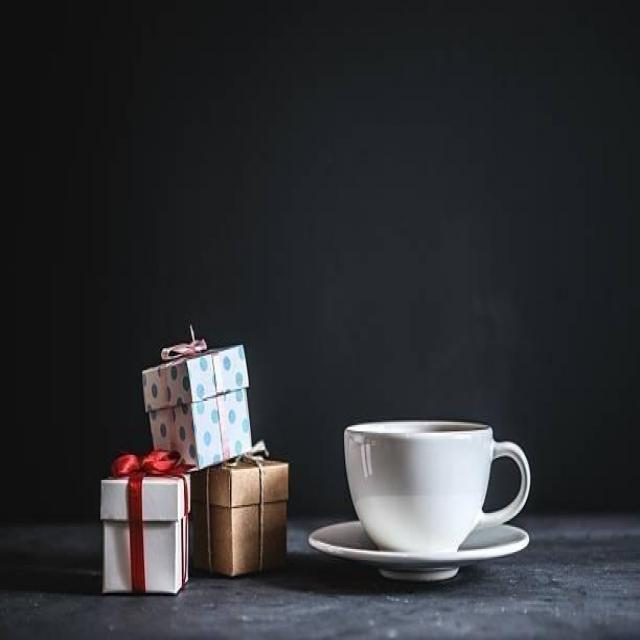cup-handle: (343, 416, 531, 554)
